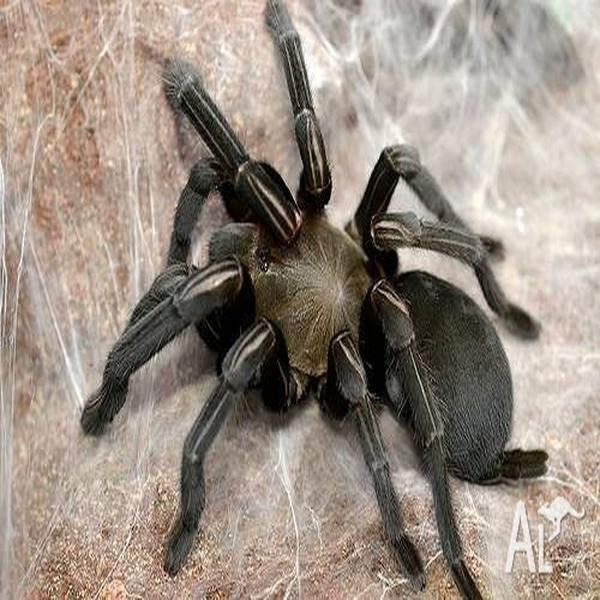Tarantula Spider: (112, 19, 551, 591)
